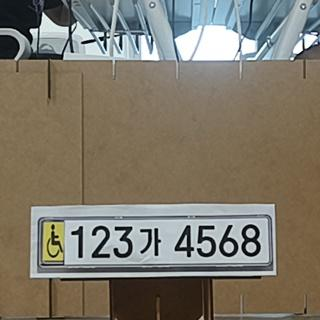disabled: (42, 222, 64, 260)
plate: (38, 217, 272, 270)
